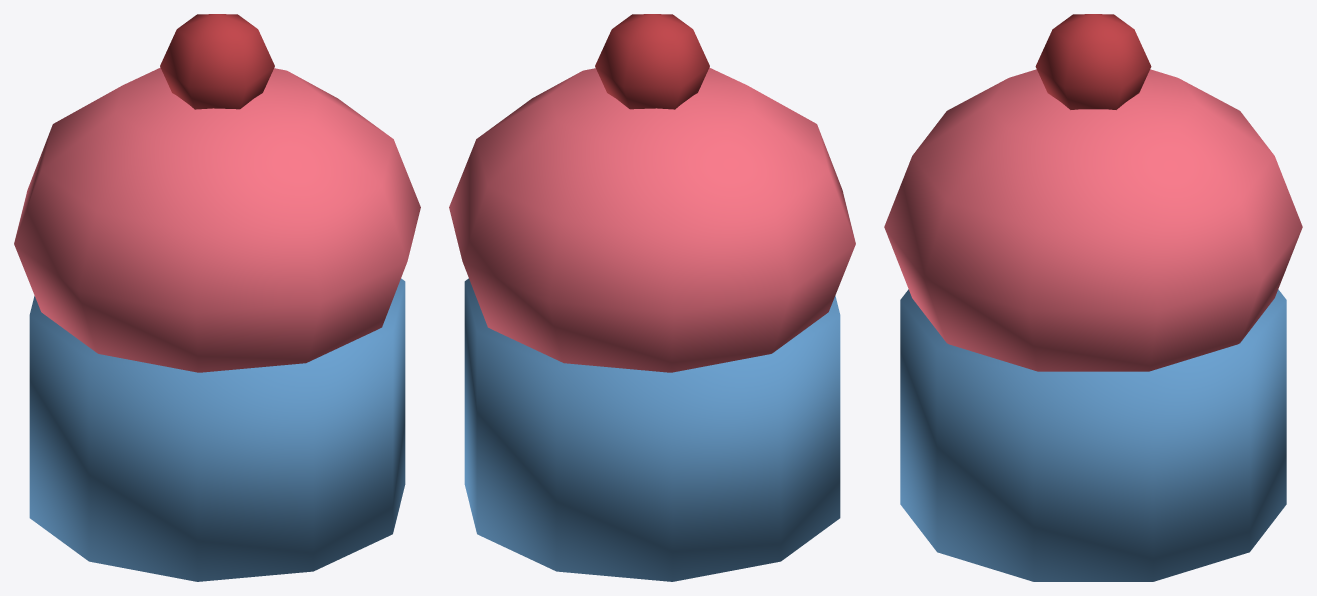
The model's file is food_cupcake.glb.
3 views of the same model, side by side, from view 1: azimuth 30°, elevation 25°; view 2: azimuth 150°, elevation 25°; view 3: azimuth 270°, elevation 25° (orthographic).
Visible parts, largest first — view 1: food_cupcake_cream, food_cupcake, food_cupcake_cherry; view 2: food_cupcake_cream, food_cupcake, food_cupcake_cherry; view 3: food_cupcake_cream, food_cupcake, food_cupcake_cherry.
Part boxes in pixels (left/top/right/bottom): food_cupcake_cream: left=14, top=67, right=420, bottom=372; food_cupcake: left=29, top=278, right=405, bottom=581; food_cupcake_cherry: left=160, top=14, right=274, bottom=109; food_cupcake_cream: left=449, top=67, right=855, bottom=372; food_cupcake: left=464, top=278, right=840, bottom=581; food_cupcake_cherry: left=595, top=14, right=709, bottom=109; food_cupcake_cream: left=884, top=69, right=1302, bottom=371; food_cupcake: left=900, top=289, right=1286, bottom=581; food_cupcake_cherry: left=1035, top=14, right=1151, bottom=109.
Bounding box in the file's own units: 0.1236 × 0.168 × 0.13.
